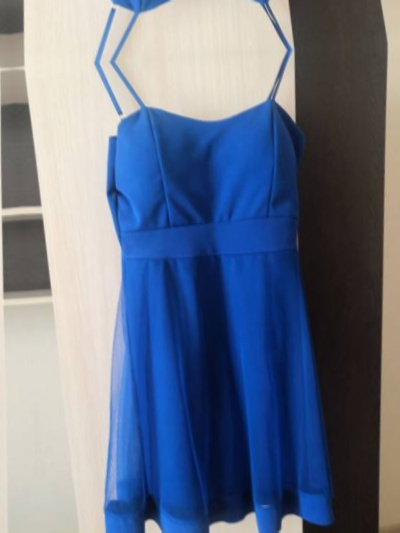Dress: (63, 79, 378, 533), (28, 0, 343, 33)
